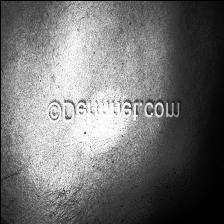Non-Cancerous Skin Condition: (73, 87, 136, 157)
